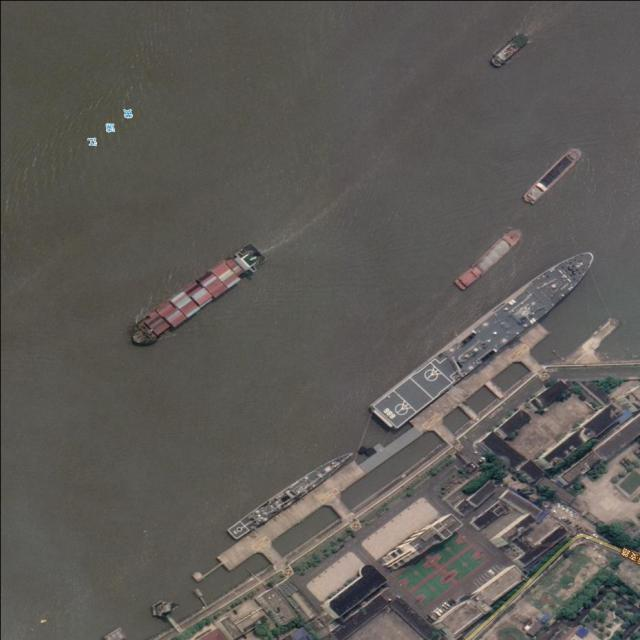Cargo: (452, 226, 526, 294), (519, 145, 585, 208)
Container Ship: (124, 239, 266, 352)
Landing: (369, 238, 600, 438)
Other Ship: (487, 31, 531, 71)
